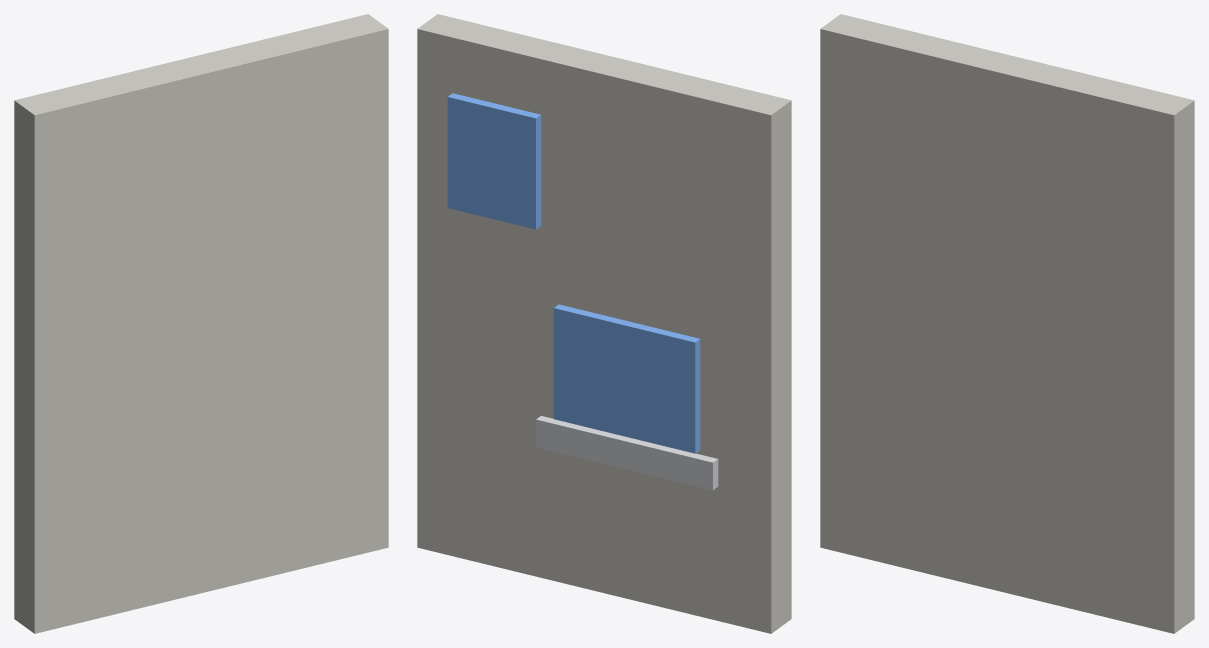
Rendered from mail_letter.glb.
3 renders of one model, left to right at view 1: azimuth 30°, elevation 25°; view 2: azimuth 150°, elevation 25°; view 3: azimuth 330°, elevation 25°, orthographic.
Visible parts, largest first — view 1: mail_letter; view 2: mail_letter; view 3: mail_letter.
Part boxes in pixels (x1,y1,x2,y2): mail_letter: [14, 14, 388, 633]; mail_letter: [417, 14, 791, 633]; mail_letter: [820, 14, 1194, 633].
Bounding box in the file's own units: 0.2 × 0.28 × 0.025.
